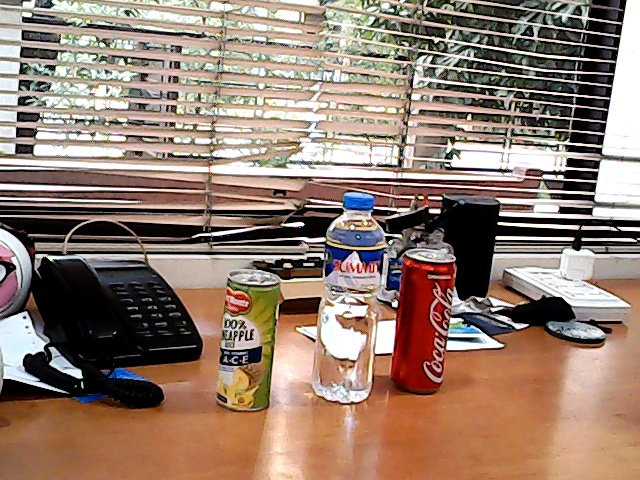Cola: (385, 227, 457, 404)
Pine Juice: (202, 261, 296, 422)
Summit Water: (300, 175, 389, 413)
